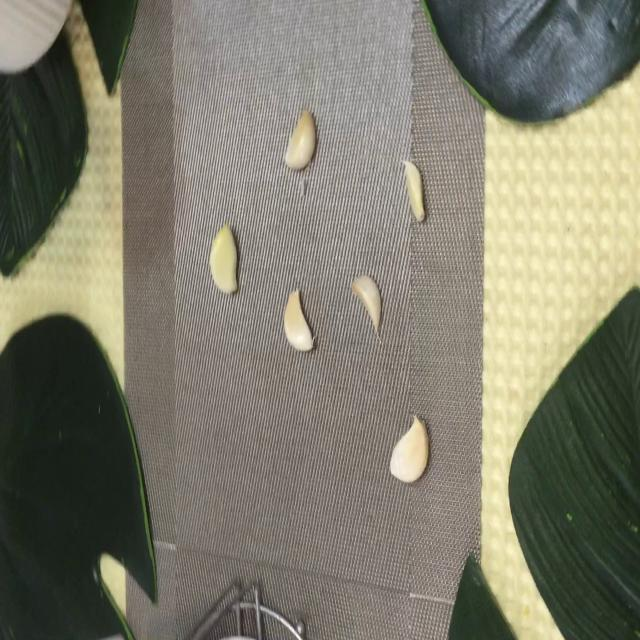garlic: (388, 407, 432, 492), (282, 102, 322, 174), (206, 221, 242, 299), (279, 286, 315, 356), (348, 268, 384, 336), (399, 153, 430, 231)
